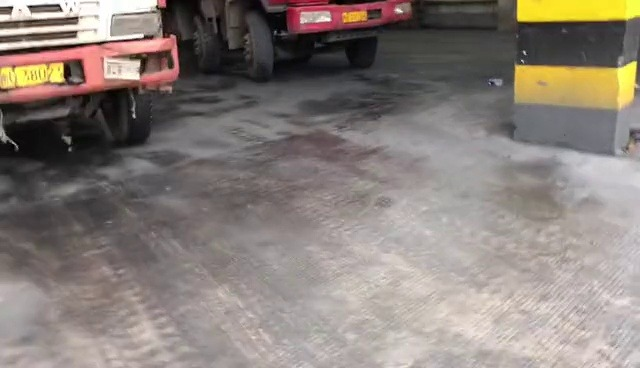truck: (0, 0, 182, 151), (191, 0, 419, 78)
